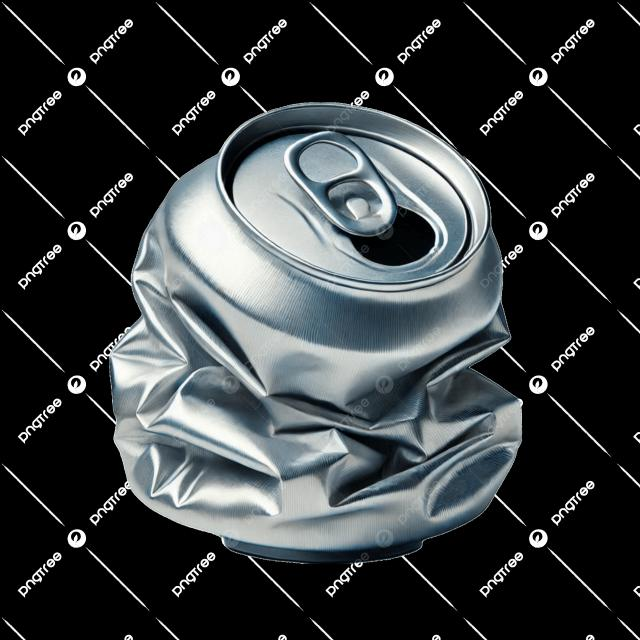can: (90, 66, 580, 554)
